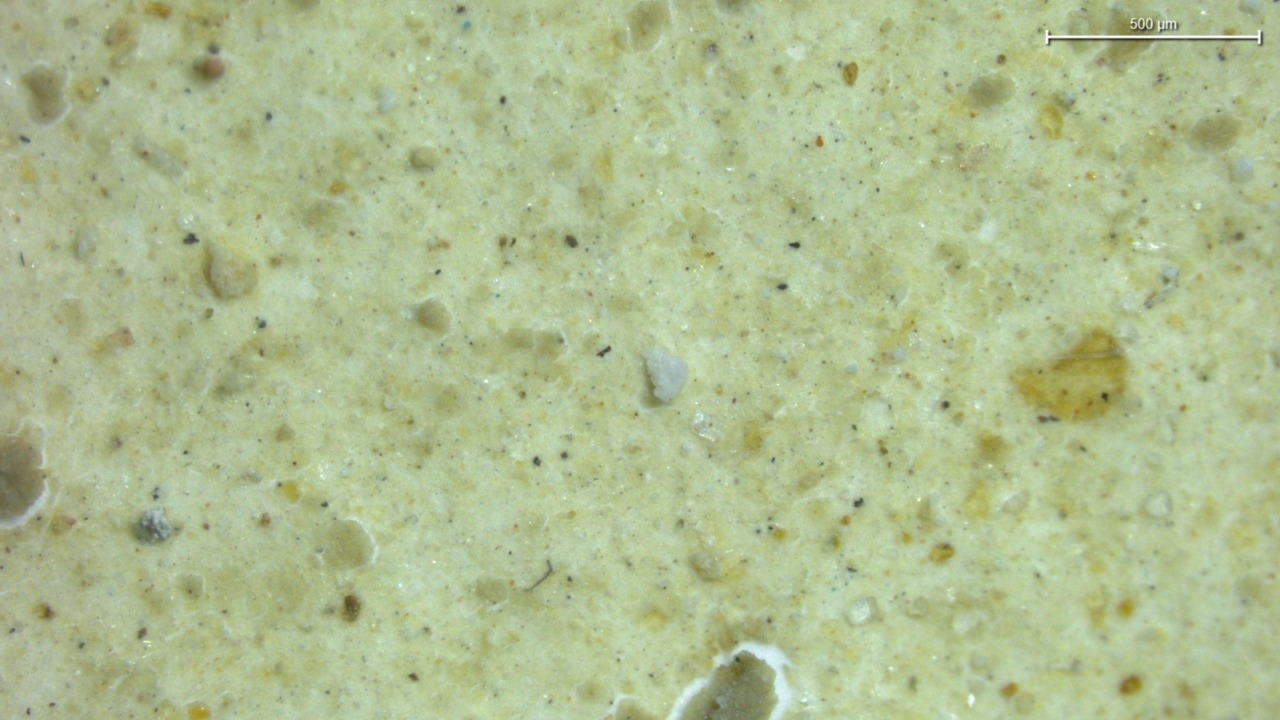microplastic_fragment: (645, 346, 687, 402)
